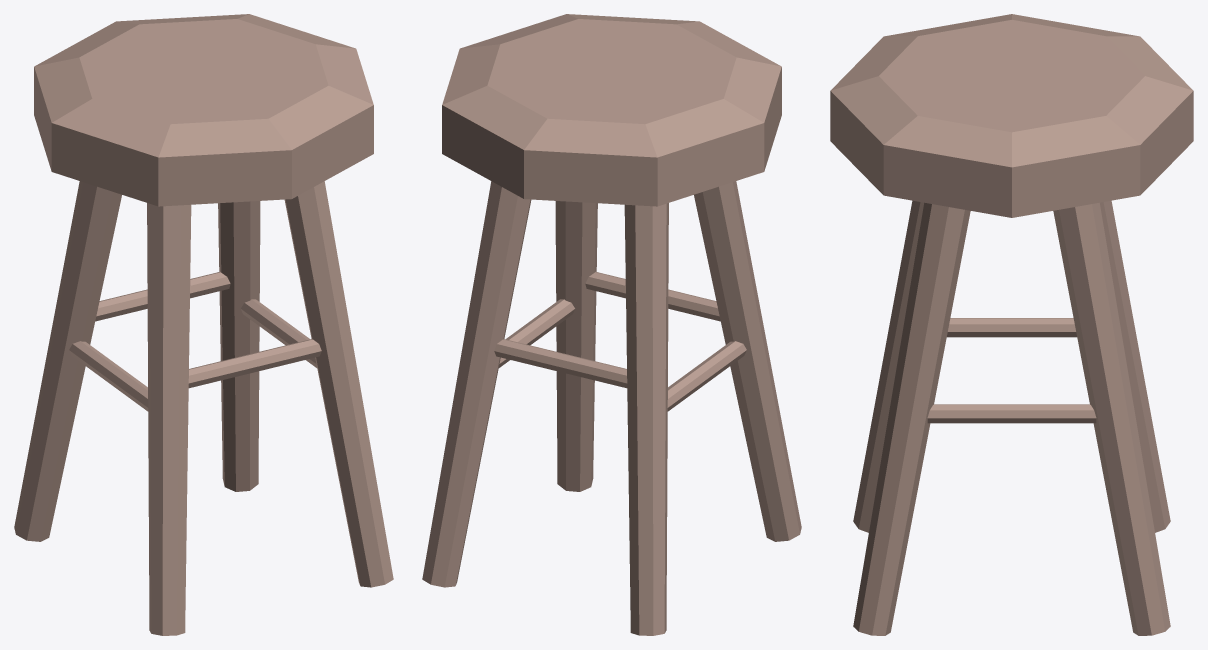
File: Stool.glb
3 renders of one model, left to right at view 1: azimuth 30°, elevation 25°; view 2: azimuth 150°, elevation 25°; view 3: azimuth 270°, elevation 25°, orthographic. The views are drawn at different scales.
Visible parts, largest first — view 1: Stool_Circle.014; view 2: Stool_Circle.014; view 3: Stool_Circle.014.
Part boxes in pixels (bbox=[...]): Stool_Circle.014: bbox=[14, 14, 393, 635]; Stool_Circle.014: bbox=[422, 14, 801, 635]; Stool_Circle.014: bbox=[830, 14, 1193, 635].
Bounding box in the file's own units: 6.47 × 9.91 × 6.47.
